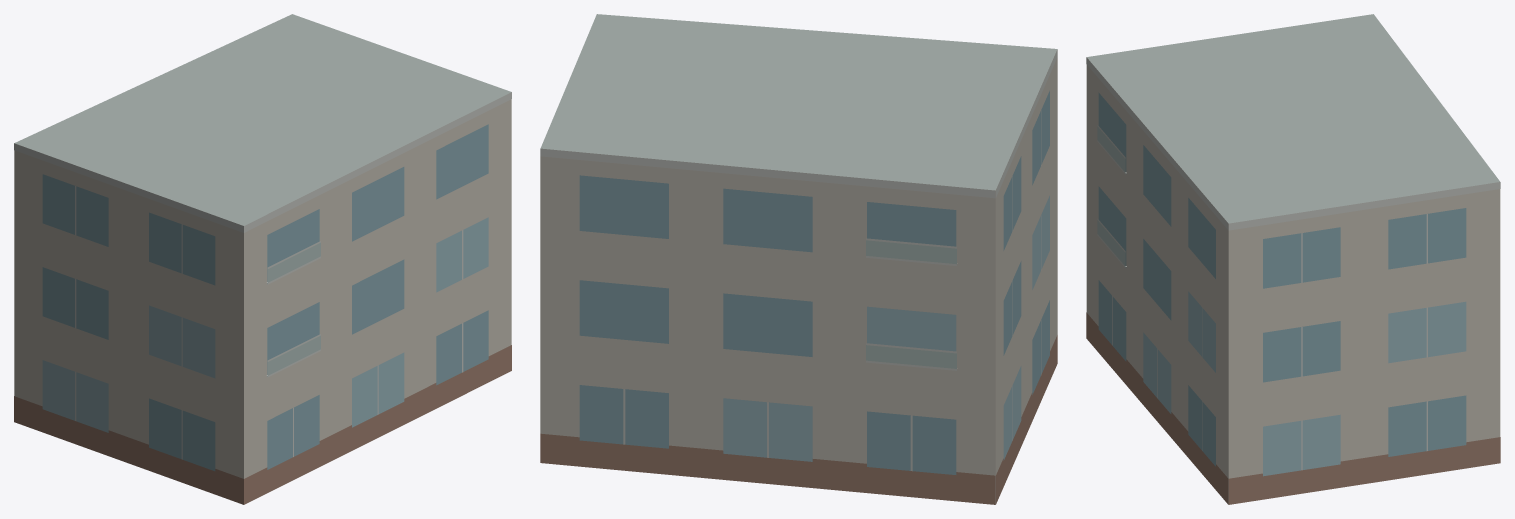
Rendered from survey-upis-32731055.glb.
The picture shows the model from 3 angles, left to right: view 1: azimuth 30°, elevation 25°; view 2: azimuth 150°, elevation 25°; view 3: azimuth 270°, elevation 25°; orthographic projection. The views are drawn at different scales.
Parts seen in each view (by area): view 1: survey-upis-32731055.tmp; view 2: survey-upis-32731055.tmp; view 3: survey-upis-32731055.tmp.
Boxes of the visible parts, box(x1,y1,x2,y2) form: survey-upis-32731055.tmp: box(14, 14, 511, 504); survey-upis-32731055.tmp: box(540, 14, 1057, 504); survey-upis-32731055.tmp: box(1086, 14, 1500, 504).
Size of the model in its own units: 15.59 by 9.75 by 13.02.
